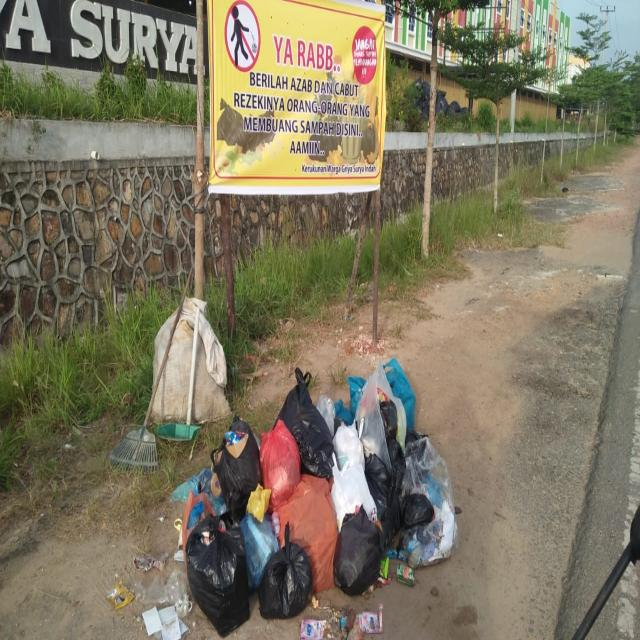sampah-detection: (175, 361, 461, 640), (150, 293, 233, 432), (109, 546, 193, 640)
